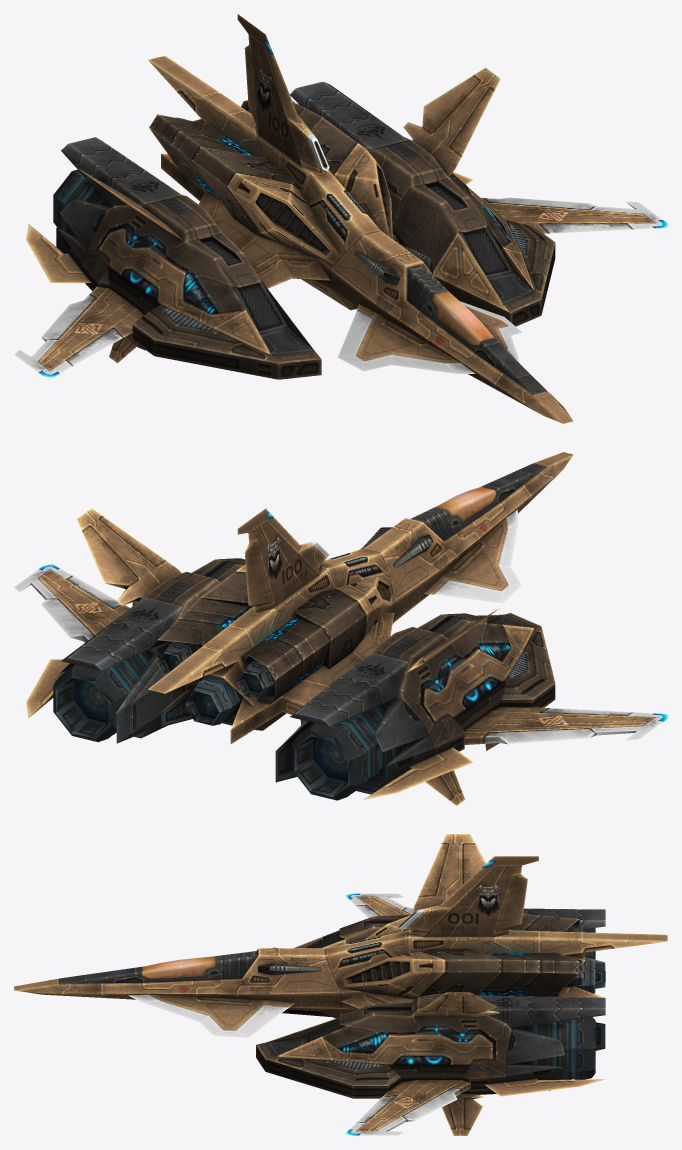
Rendered from medium_fighter.glb.
3 renders of one model, top to bottom at view 1: azimuth 30°, elevation 25°; view 2: azimuth 150°, elevation 25°; view 3: azimuth 270°, elevation 25°, orthographic. The views are drawn at different scales.
Parts seen in each view (by area): view 1: Object_3; view 2: Object_3; view 3: Object_3.
Part boxes in pixels (left/top/right/bottom): Object_3: left=14, top=14, right=667, bottom=423; Object_3: left=14, top=452, right=667, bottom=805; Object_3: left=14, top=834, right=667, bottom=1135.
Size of the model in its own units: 2 by 0.8166 by 2.28.
1 material, 1 textured.
